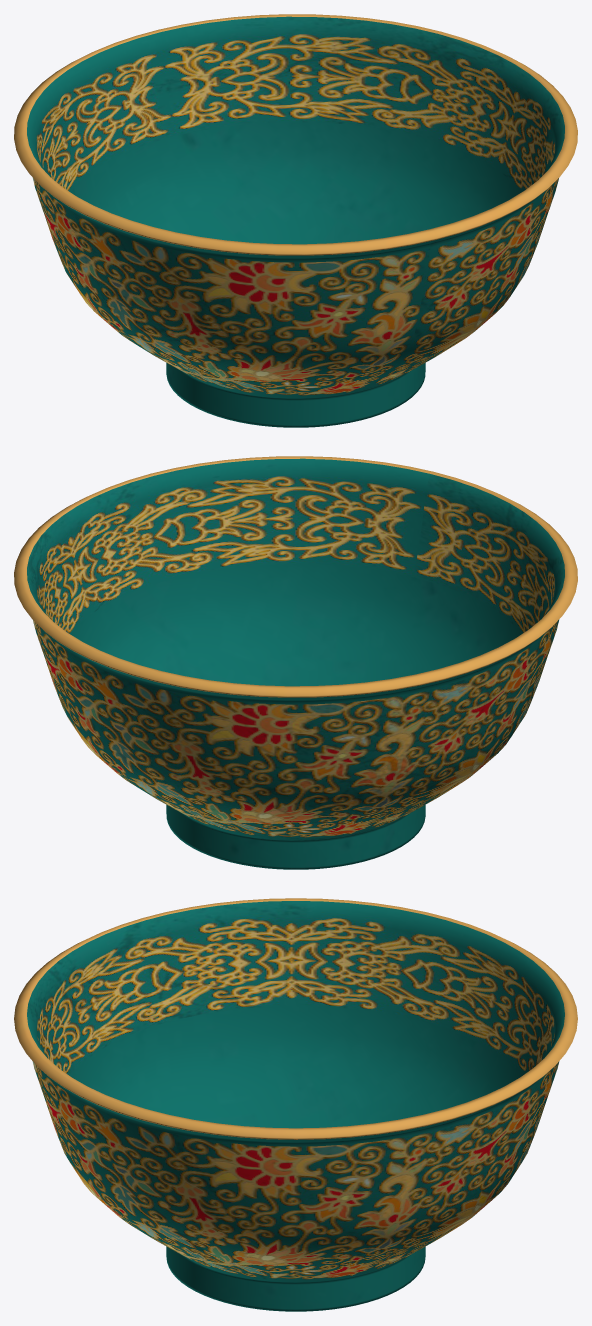
File: altin-desenli-kase.glb
3 views of the same model, one above another, from view 1: azimuth 30°, elevation 25°; view 2: azimuth 150°, elevation 25°; view 3: azimuth 270°, elevation 25° (orthographic).
Parts seen in each view (by area): view 1: bowl made of enamel material; view 2: bowl made of enamel material; view 3: bowl made of enamel material.
Boxes of the visible parts, x1,y1,x2,y2 form: bowl made of enamel material: (14, 14, 577, 427); bowl made of enamel material: (14, 456, 577, 869); bowl made of enamel material: (14, 898, 577, 1311).
Size of the model in its own units: 0.1832 by 0.0869 by 0.1832.
2 materials, 2 textured.
